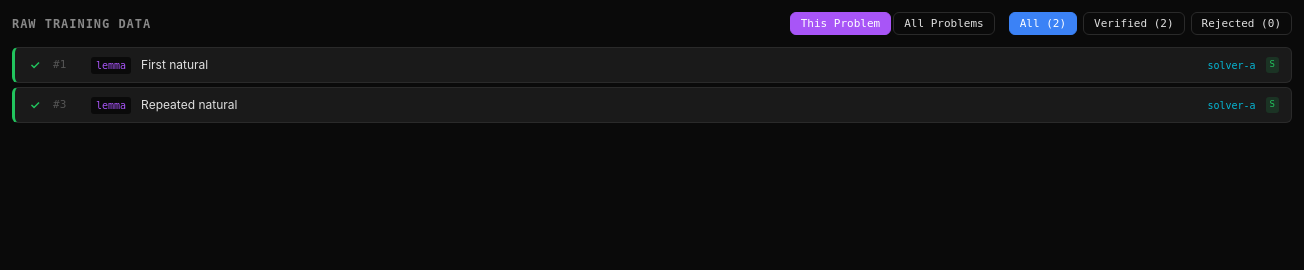
Test: TrainingDataTable › shows semantic redundancy labels separately from stale sibling fan-in state
Click the text "Repeated natural" at [189, 104], box [141,97,237,112]
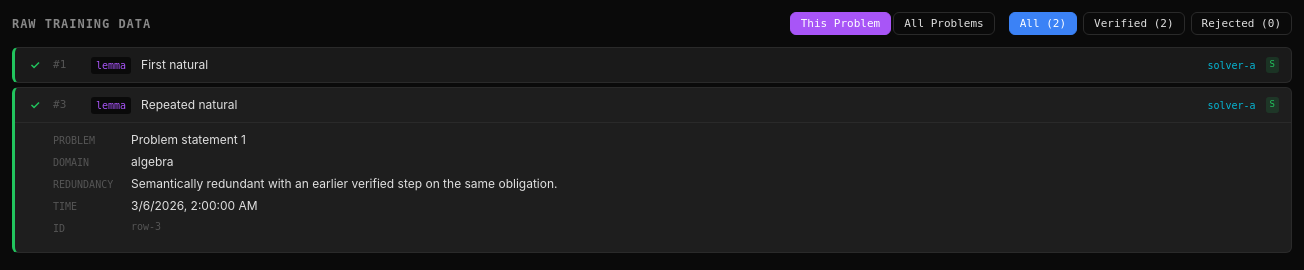
Expected: the text "Semantically redundant with an earlier verified step on the same obligation." is shown, [131,175,558,193]
